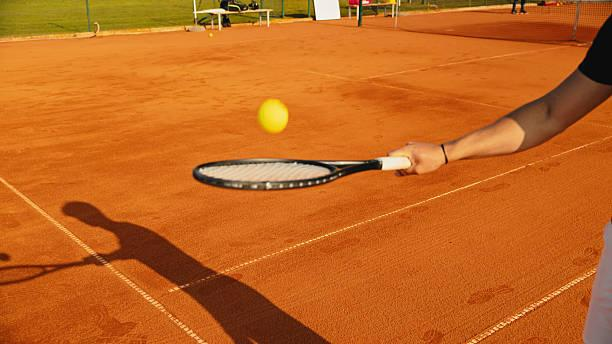ball_tennis: (258, 100, 288, 133)
